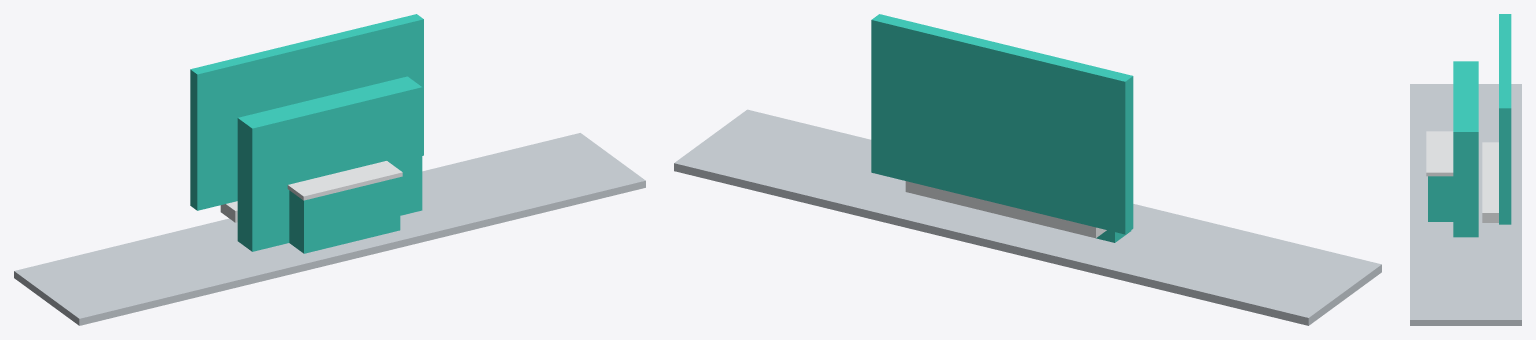
3 renders of one model, left to right at view 1: azimuth 30°, elevation 25°; view 2: azimuth 150°, elevation 25°; view 3: azimuth 270°, elevation 25°, orthographic. The views are drawn at different scales.
Parts seen in each view (by area): view 1: Exhibition Booth Concept; view 2: Exhibition Booth Concept; view 3: Exhibition Booth Concept.
Part boxes in pixels (x1,y1,x2,y2): Exhibition Booth Concept: (14, 14, 645, 325); Exhibition Booth Concept: (674, 14, 1381, 325); Exhibition Booth Concept: (1410, 14, 1521, 325).
Size of the model in its own units: 10 by 2.9 by 2.
